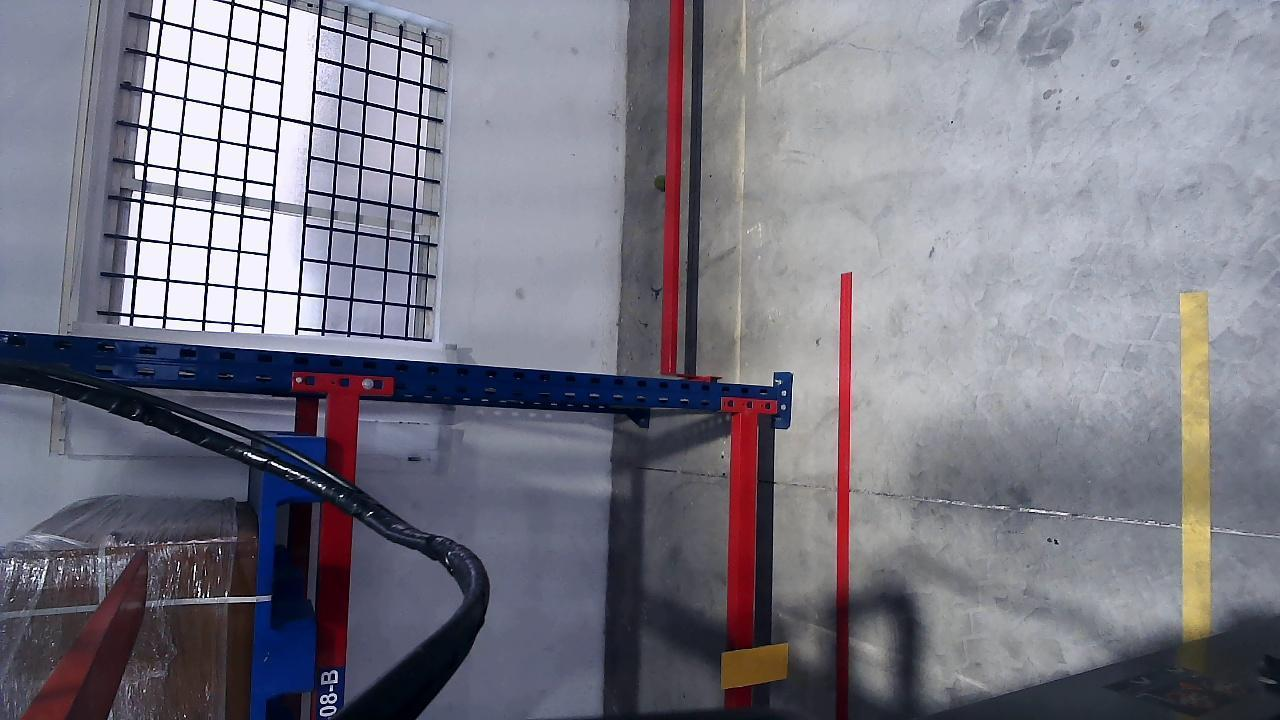red_line: (832, 271, 852, 718)
yellow_line: (1179, 298, 1211, 635)
